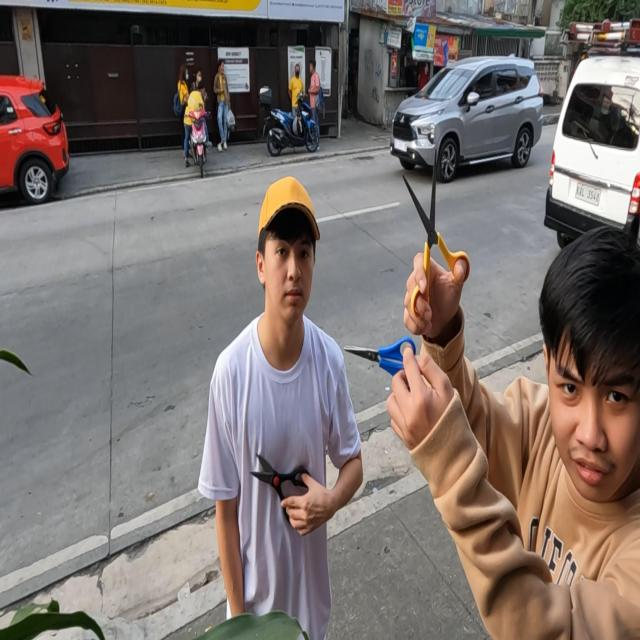scissor: (401, 146, 471, 320), (249, 450, 312, 526), (343, 335, 417, 388)
